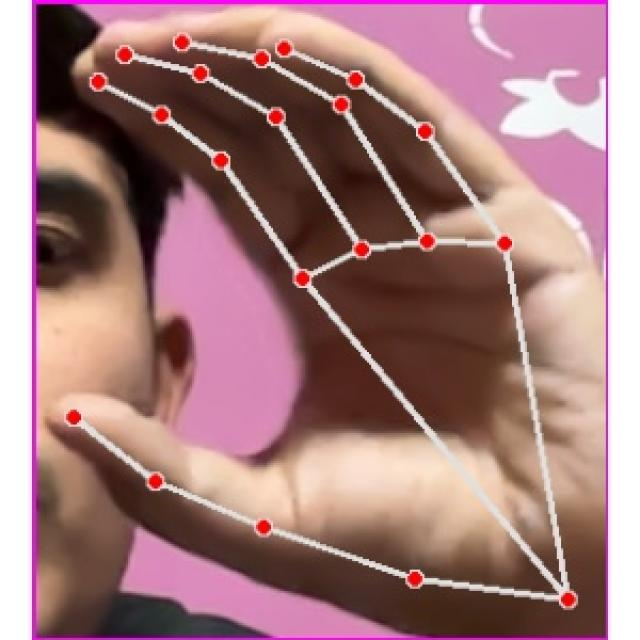C: (45, 15, 598, 609)
